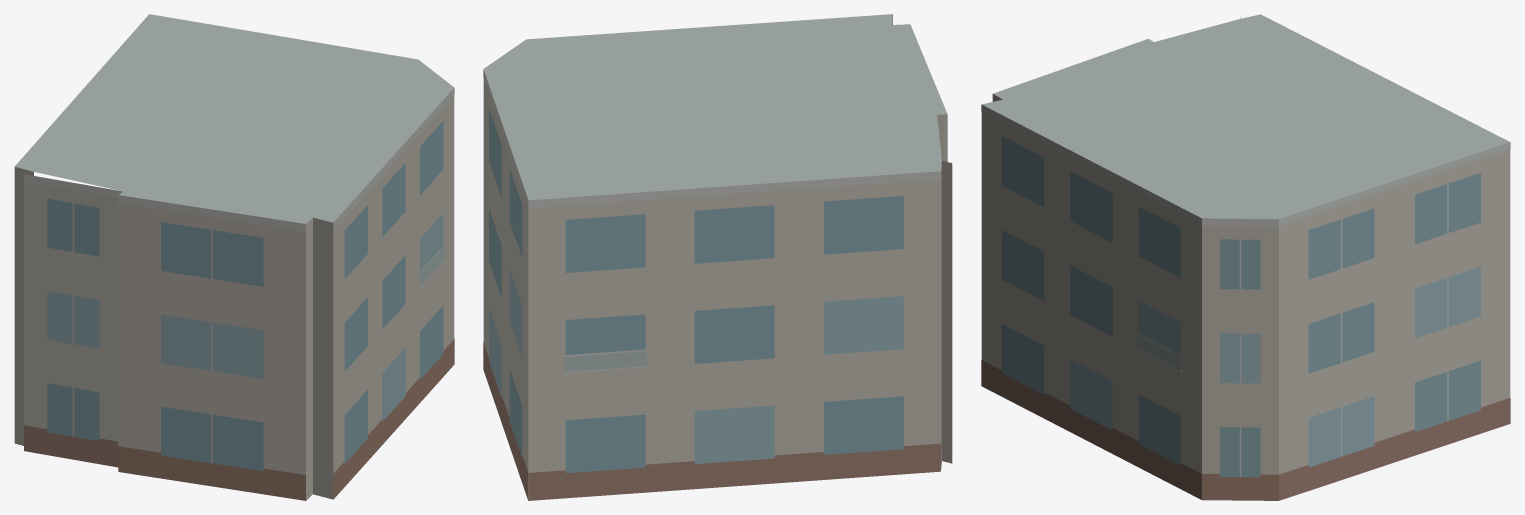
The model's file is survey-upis-32657146.glb.
3 renders of one model, left to right at view 1: azimuth 30°, elevation 25°; view 2: azimuth 150°, elevation 25°; view 3: azimuth 270°, elevation 25°, orthographic. The views are drawn at different scales.
Parts seen in each view (by area): view 1: survey-upis-32657146.tmp; view 2: survey-upis-32657146.tmp; view 3: survey-upis-32657146.tmp.
Boxes of the visible parts, <box> form: survey-upis-32657146.tmp: <box>14,14,454,500</box>; survey-upis-32657146.tmp: <box>483,14,952,500</box>; survey-upis-32657146.tmp: <box>981,14,1510,500</box>.
Size of the model in its own units: 14.3 by 9.15 by 15.58.
